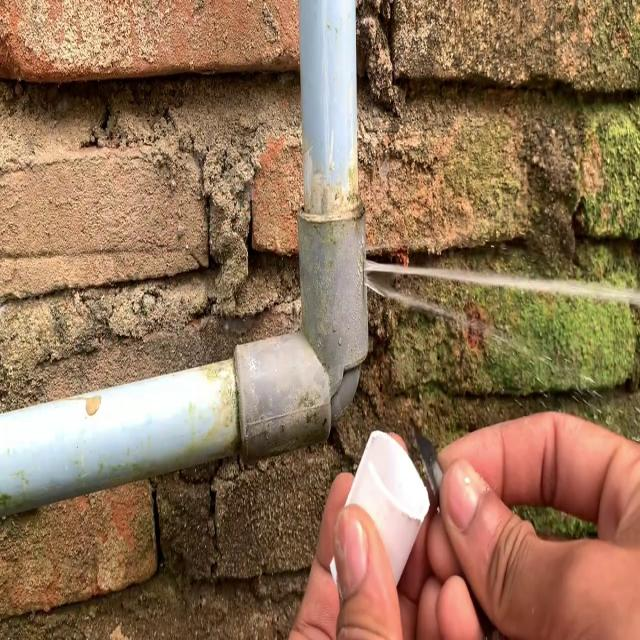leak: (361, 257, 640, 431)
